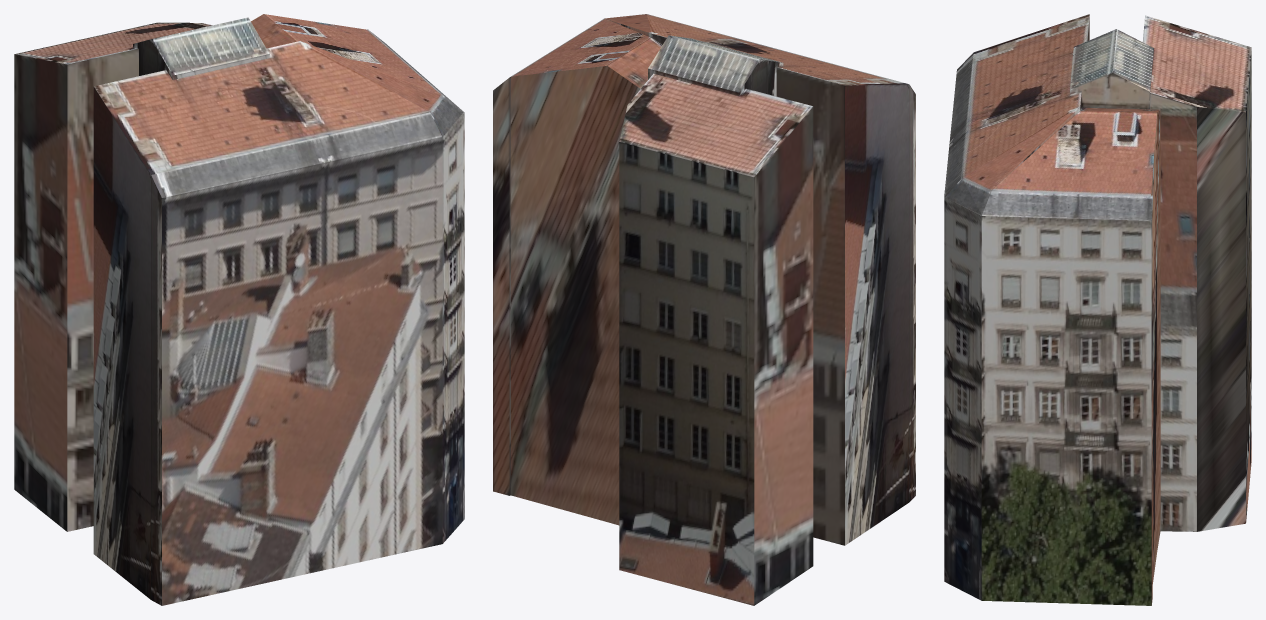
3 views of the same model, side by side, from view 1: azimuth 30°, elevation 25°; view 2: azimuth 150°, elevation 25°; view 3: azimuth 270°, elevation 25° (orthographic). The views are drawn at different scales.
Visible parts, largest first — view 1: Z_UP; view 2: Z_UP; view 3: Z_UP.
Boxes of the visible parts, x1,y1,x2,y2 form: Z_UP: [14, 14, 464, 605]; Z_UP: [493, 14, 915, 605]; Z_UP: [944, 14, 1251, 605].
Bounding box in the file's own units: 21.91 × 31 × 18.77.
2 materials, 1 textured.
